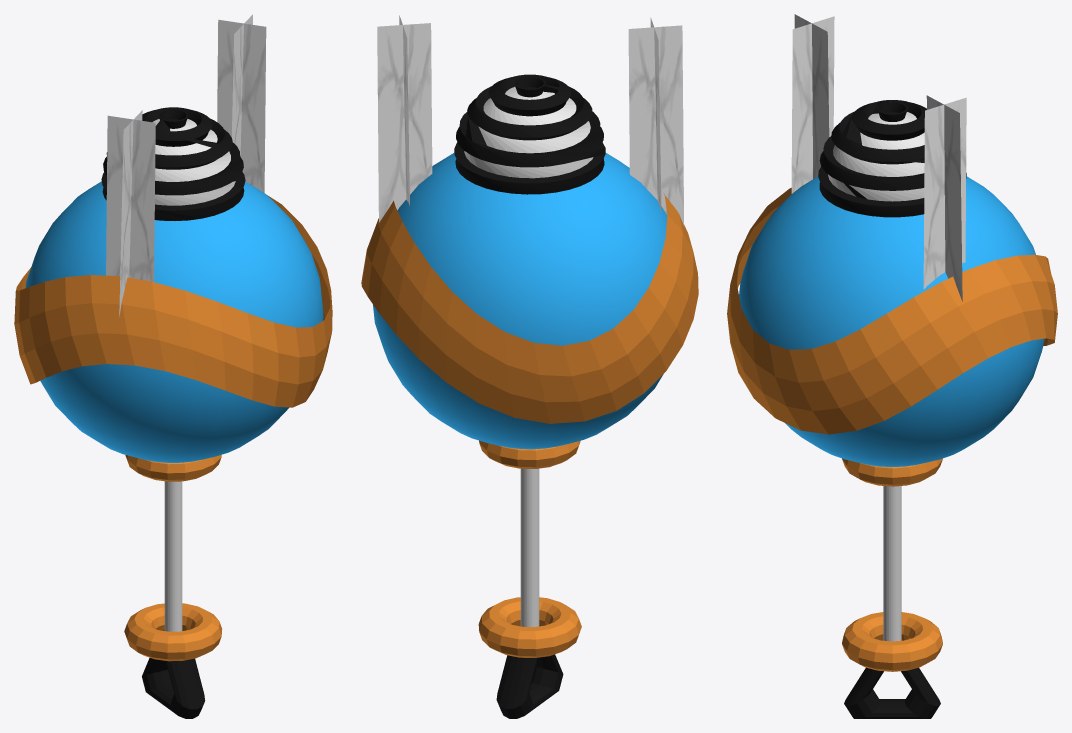
The model's file is stuff.fbx.
3 renders of one model, left to right at view 1: azimuth 30°, elevation 25°; view 2: azimuth 150°, elevation 25°; view 3: azimuth 270°, elevation 25°, orthographic. The views are drawn at different scales.
Parts seen in each view (by area): view 1: Sphere.007, Sphere.009, Plane.004, Sphere.008, Torus.001, Cylinder, Torus.002, Torus; view 2: Sphere.007, Sphere.009, Plane.004, Sphere.008, Torus.001, Cylinder, Torus.002, Torus; view 3: Sphere.007, Sphere.009, Plane.004, Sphere.008, Torus.001, Torus.002, Cylinder, Torus.
Part boxes in pixels (x1,y1,x2,y2): Sphere.007: (25, 181, 323, 462); Sphere.009: (14, 195, 332, 407); Plane.004: (106, 14, 266, 316); Sphere.008: (101, 107, 245, 220); Torus.001: (124, 603, 222, 661); Cylinder: (164, 481, 182, 631); Torus.002: (142, 630, 205, 718); Torus: (125, 455, 221, 481); Sphere.007: (373, 153, 667, 449); Sphere.009: (361, 194, 698, 423); Plane.004: (377, 15, 683, 225); Sphere.008: (454, 74, 605, 194); Torus.001: (478, 597, 581, 657); Cylinder: (520, 468, 539, 626); Torus.002: (496, 626, 563, 718); Torus: (479, 440, 580, 468); Sphere.007: (739, 176, 1044, 466); Sphere.009: (727, 187, 1057, 434); Plane.004: (791, 14, 966, 301); Sphere.008: (818, 100, 966, 217); Torus.001: (842, 612, 942, 671); Torus.002: (844, 667, 940, 718); Cylinder: (883, 486, 901, 641); Torus: (842, 458, 942, 486).
Bounding box in the file's own units: 599 × 1320 × 599.
